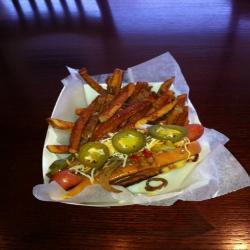fries: (53, 68, 196, 125)
hotdog: (44, 122, 213, 192)
